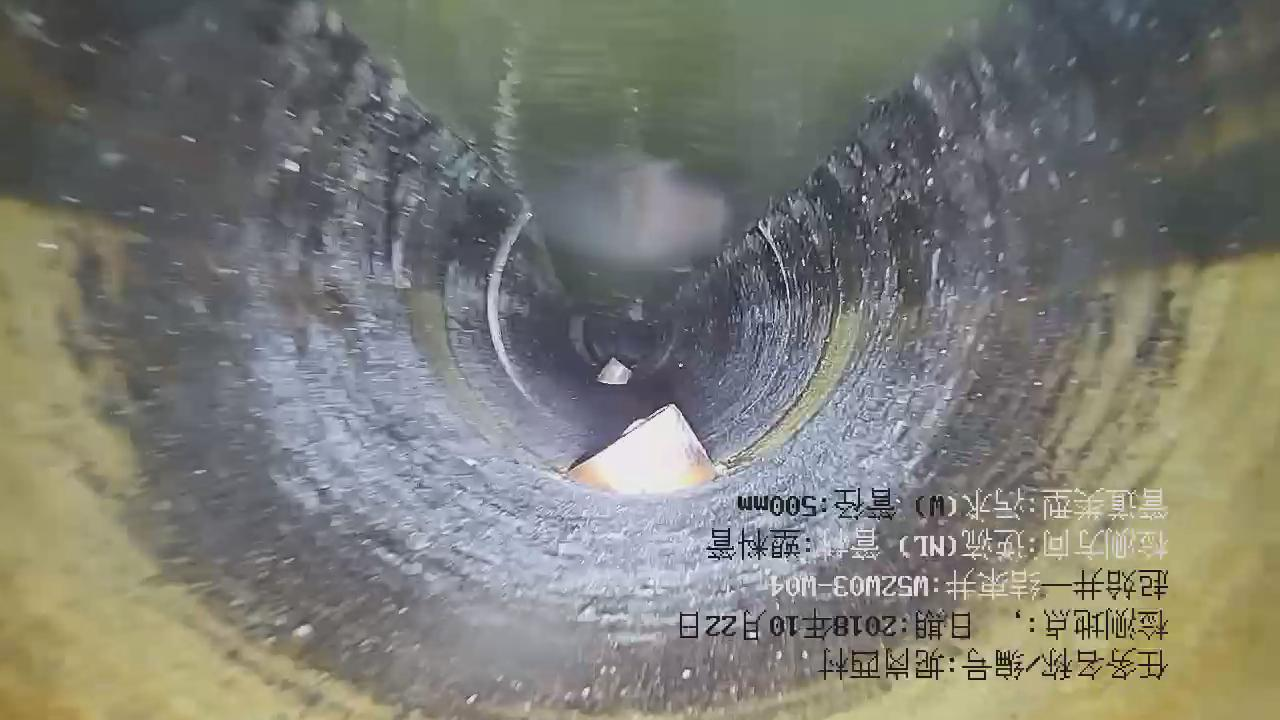CKTJ: (487, 211, 532, 404)
ZGAJ: (565, 406, 717, 495), (598, 357, 632, 385)
